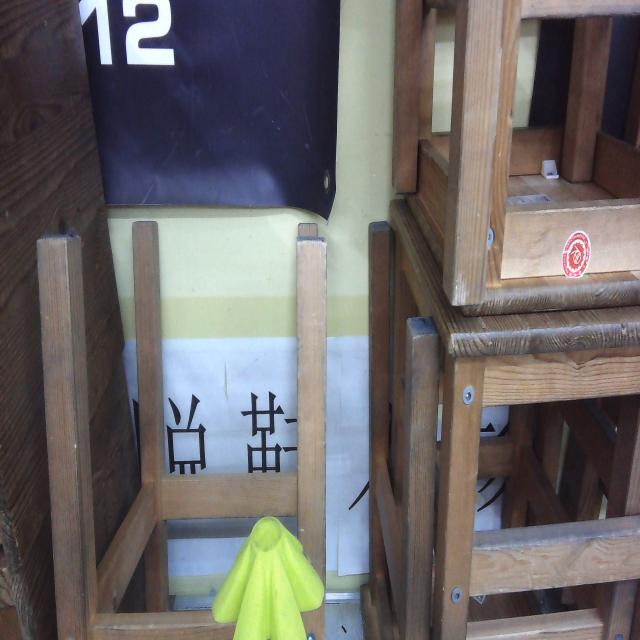Yellow-Stake-Head: (212, 516, 325, 640)
